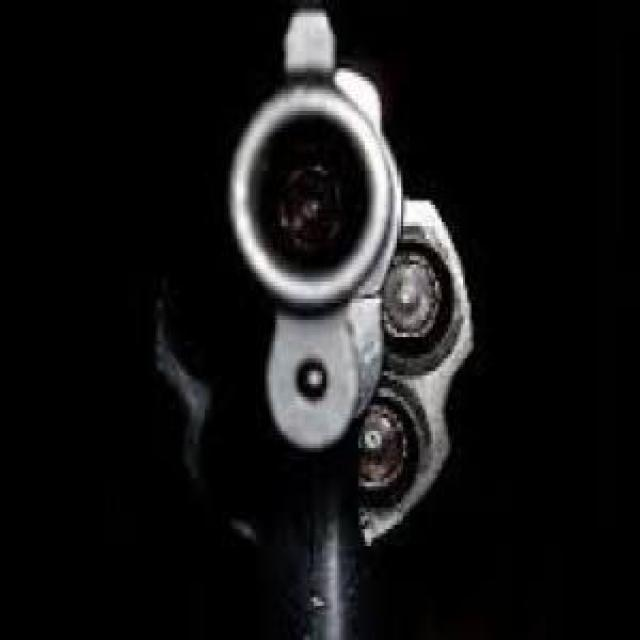pistol: (152, 13, 472, 636)
